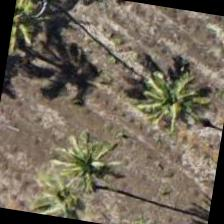Kelapa_Sawit: (34, 107, 137, 210), (116, 52, 218, 155), (20, 155, 119, 223), (8, 0, 65, 57)
